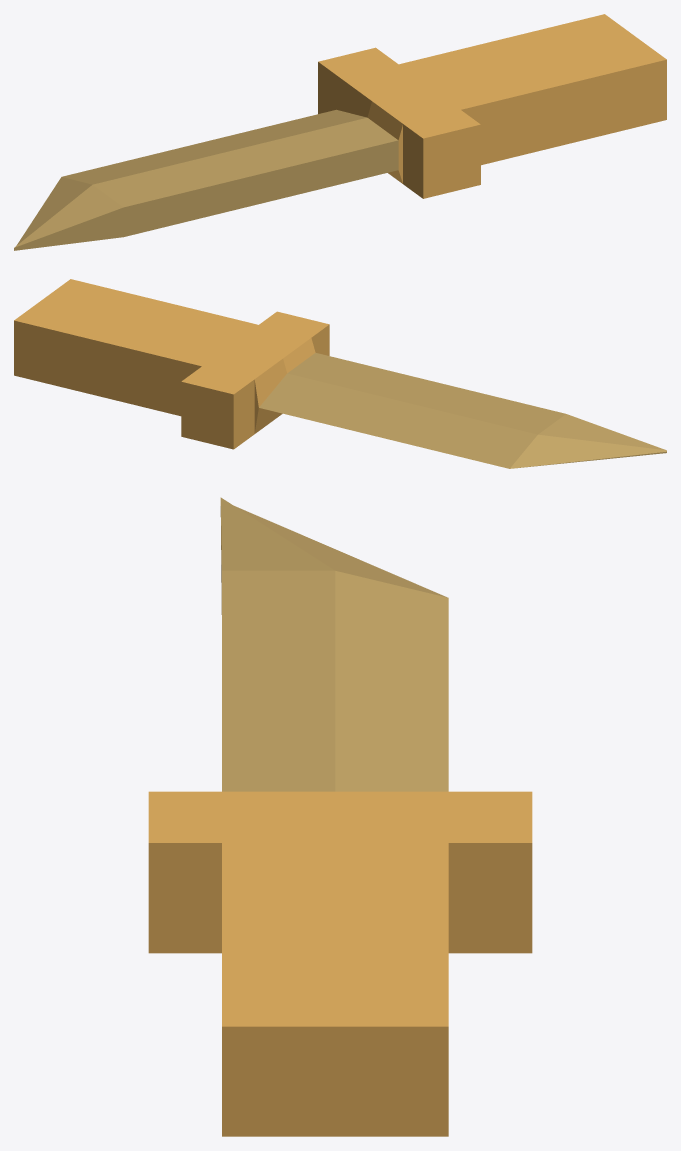
Rendered from gold_knife.glb.
3 renders of one model, top to bottom at view 1: azimuth 30°, elevation 25°; view 2: azimuth 150°, elevation 25°; view 3: azimuth 270°, elevation 25°, orthographic. The views are drawn at different scales.
Visible parts, largest first — view 1: Cube; view 2: Cube; view 3: Cube.
Part boxes in pixels (bbox=[...]): Cube: bbox=[14, 14, 666, 250]; Cube: bbox=[14, 279, 666, 468]; Cube: bbox=[148, 497, 532, 1136].
Bounding box in the file's own units: 9.51 × 0.8393 × 2.65.
